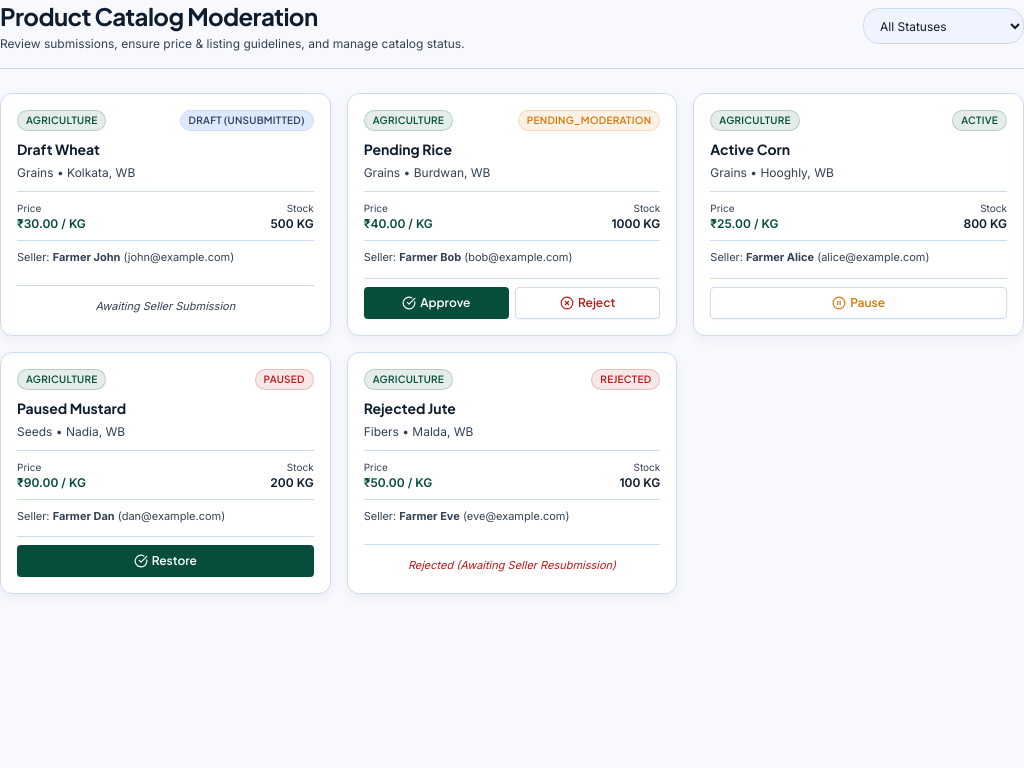
Scenario: Admin Product Moderation View — State Machine and UI Guardrails › updates product status and displays success feedback when moderation succeeds
This screenshot has width=1024, height=768.
Note: Click Approve on pending product
Click the button "Approve" at (436, 302), box [364,286,509,318]
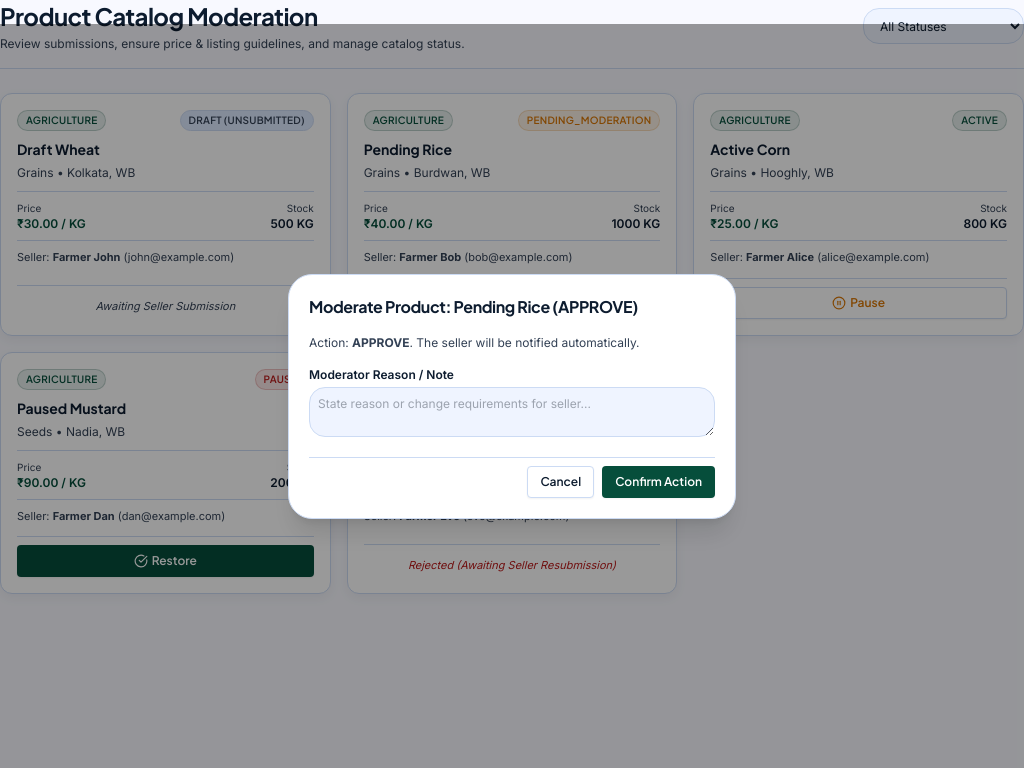
Note: Confirm in modal
Click the button "Confirm Action" at (659, 482), box [602,466,715,498]
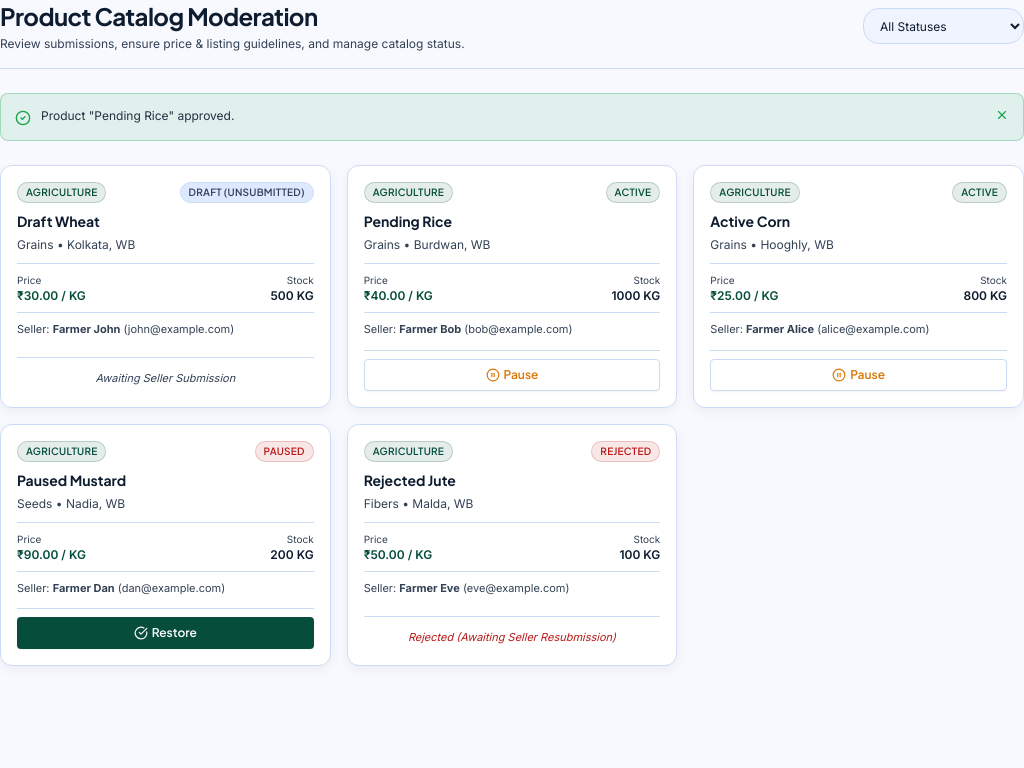
Expected: the text "Product \"Pending Rice\" approved." is shown, [41,108,234,124]
